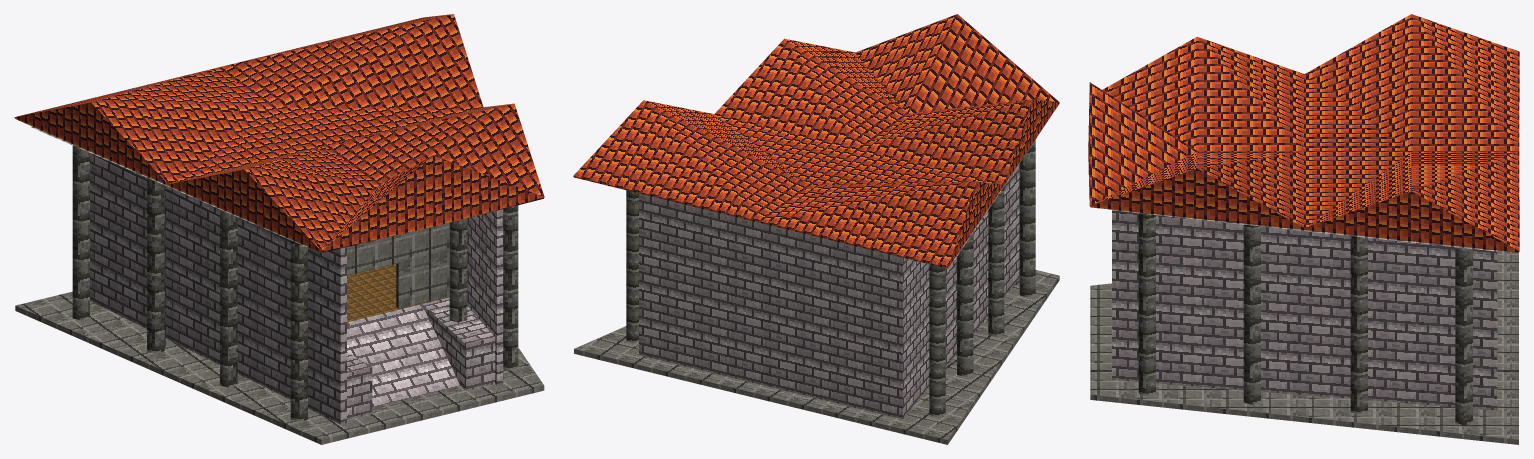
File: townhall.obj
3 views of the same model, side by side, from view 1: azimuth 30°, elevation 25°; view 2: azimuth 150°, elevation 25°; view 3: azimuth 270°, elevation 25° (orthographic). The views are drawn at different scales.
Visible parts, largest first — view 1: Object004, Box011, Object003, Object005, Object006, Object007; view 2: Object004, Box011, Object005, Object003; view 3: Object004, Box011, Object005, Object003.
Part boxes in pixels (box(x1,y1,x2,y2)): Object004: box(14, 14, 544, 252); Box011: box(31, 126, 503, 424); Object003: box(72, 145, 518, 421); Object005: box(15, 291, 544, 444); Object006: box(347, 222, 449, 308); Object007: box(347, 264, 449, 322); Object004: box(573, 14, 1059, 268); Box011: box(639, 123, 1046, 419); Object005: box(574, 270, 1059, 444); Object003: box(626, 140, 1035, 416); Object004: box(1088, 14, 1519, 252); Box011: box(1112, 209, 1497, 410); Object005: box(1090, 250, 1518, 444); Object003: box(1138, 213, 1472, 424).
Size of the model in its own units: 22.05 by 13.66 by 20.14.
